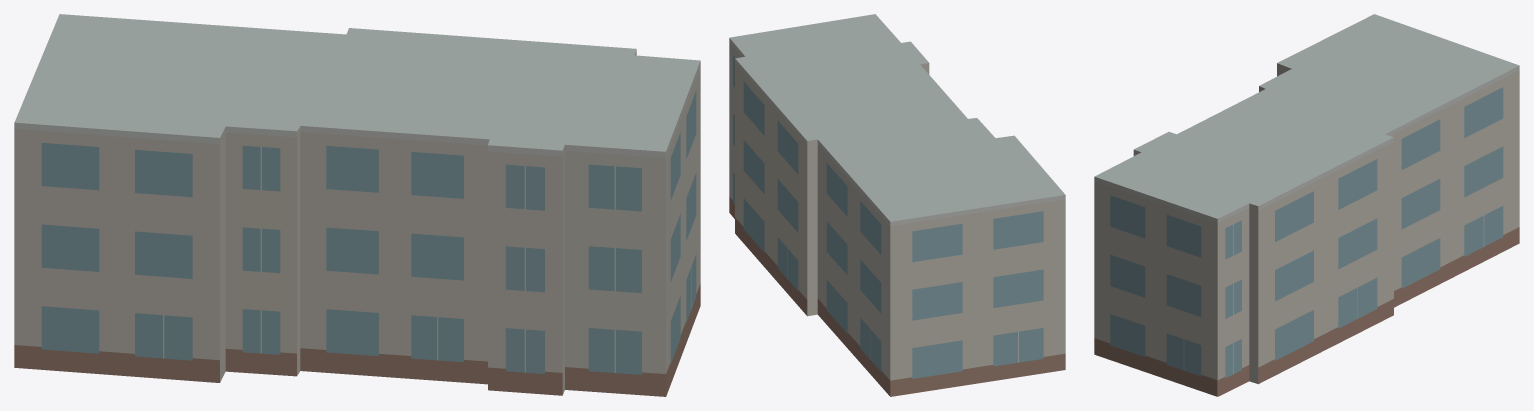
File: survey-upis-32523361.glb
3 views of the same model, side by side, from view 1: azimuth 30°, elevation 25°; view 2: azimuth 150°, elevation 25°; view 3: azimuth 270°, elevation 25° (orthographic). The views are drawn at different scales.
Visible parts, largest first — view 1: survey-upis-32523361.tmp; view 2: survey-upis-32523361.tmp; view 3: survey-upis-32523361.tmp.
Part boxes in pixels (<box>): survey-upis-32523361.tmp: <box>14,14,700,396</box>; survey-upis-32523361.tmp: <box>729,14,1065,396</box>; survey-upis-32523361.tmp: <box>1094,14,1519,396</box>.
Size of the model in its own units: 23.96 by 9.7 by 21.01.
